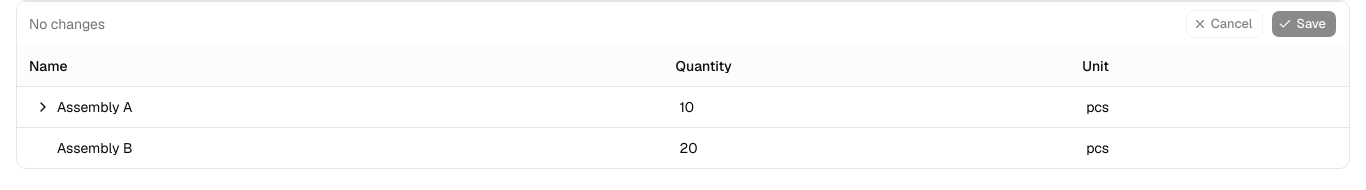
Test: EditableTreeTable › dirtyRows tracked correctly
The image size is (1366, 190).
Expected: the text "No changes" is shown, [29,14,105,34]
Edit a cell
Click the button "10" at (687, 106), box [680,98,694,116]
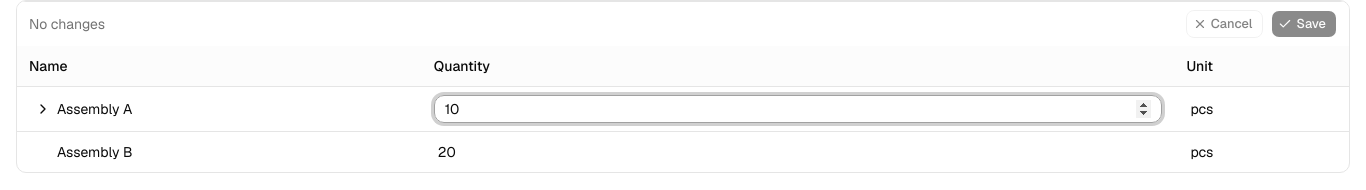
Replace the text in the number field showing "10" with "25" at (798, 108), box [434,94,1162,122]
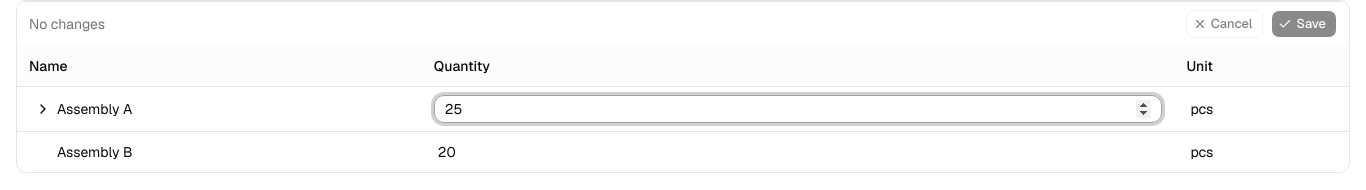
Press Enter in the number field showing "10", box [434,94,1162,122]
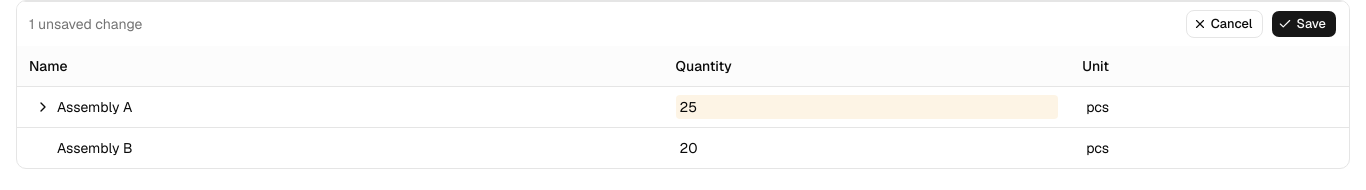
Expected: the text "1 unsaved change" is shown, [29,14,142,34]
